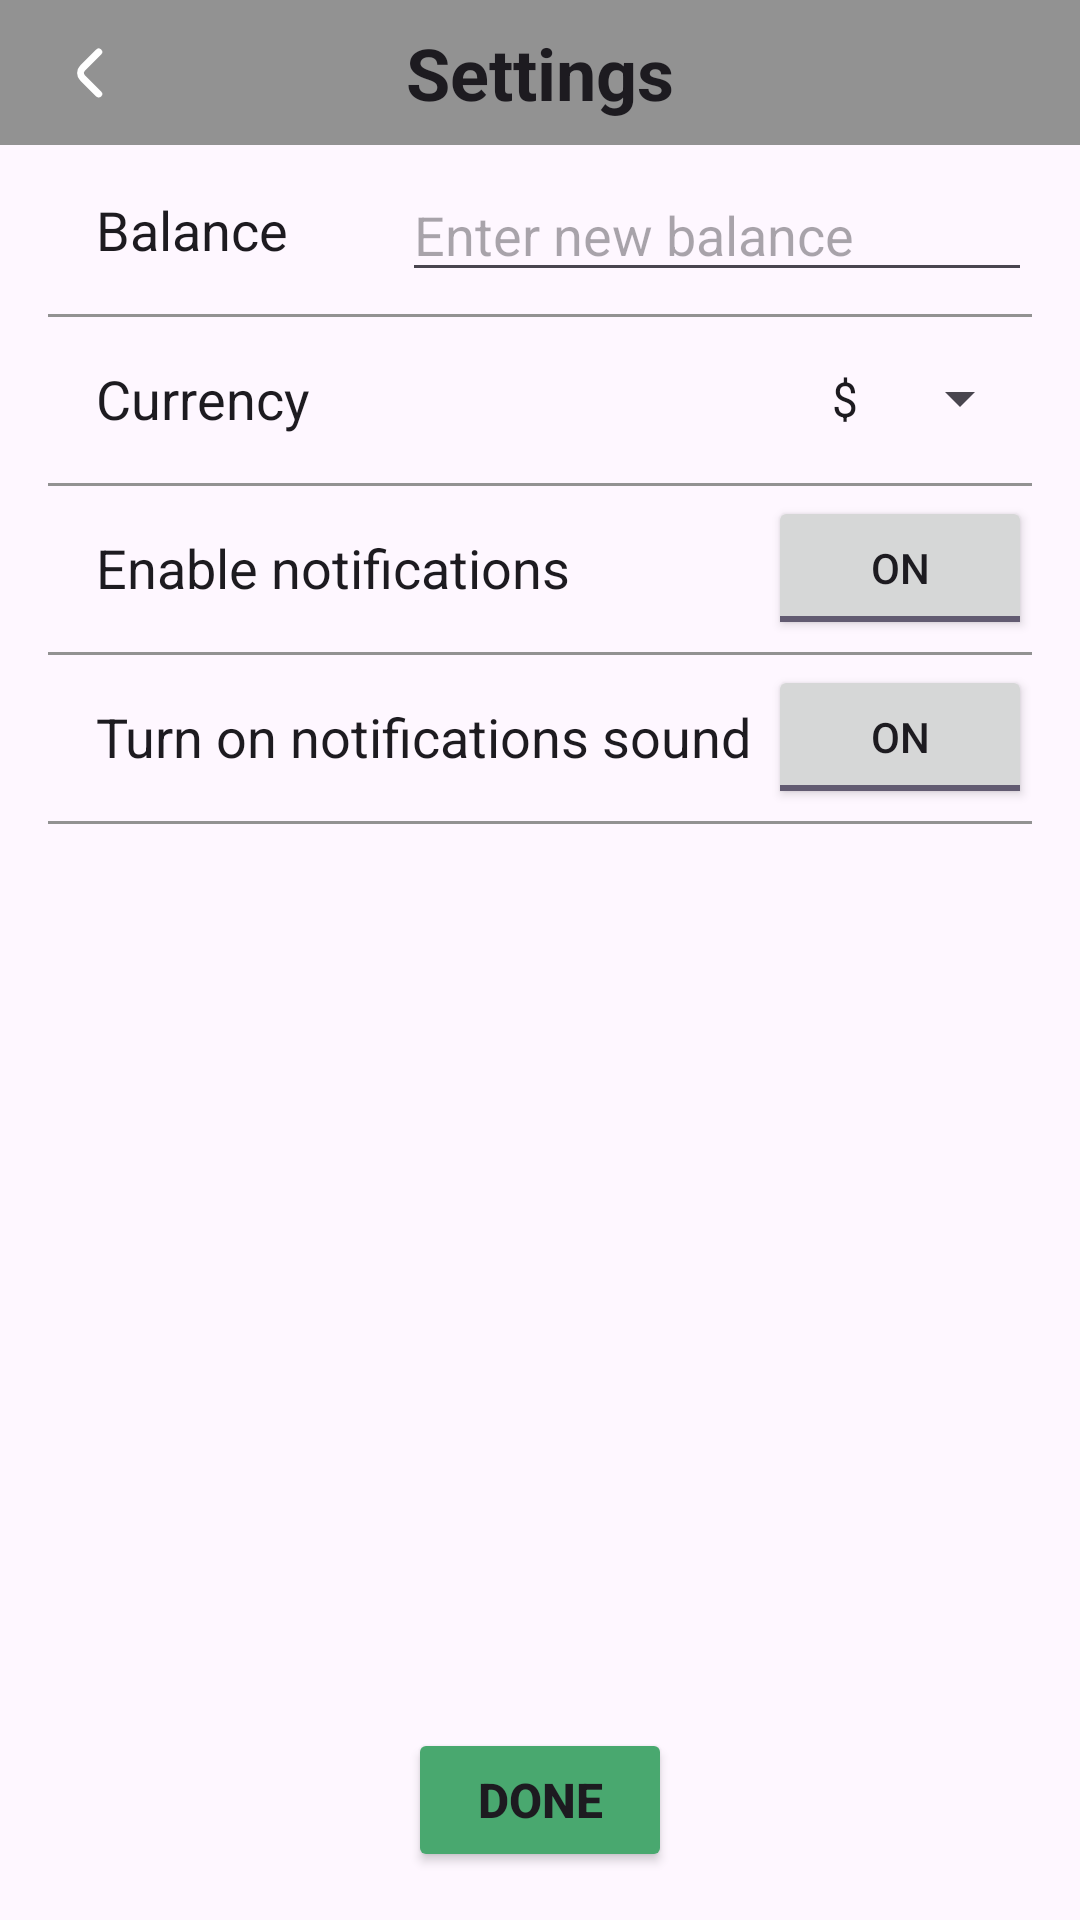

Screen size 1080px x 1920px. Icon name, then its box in pixels as Rect(x1, y1, x2, y2):
Go back to home screen: Rect(77, 48, 103, 98)
